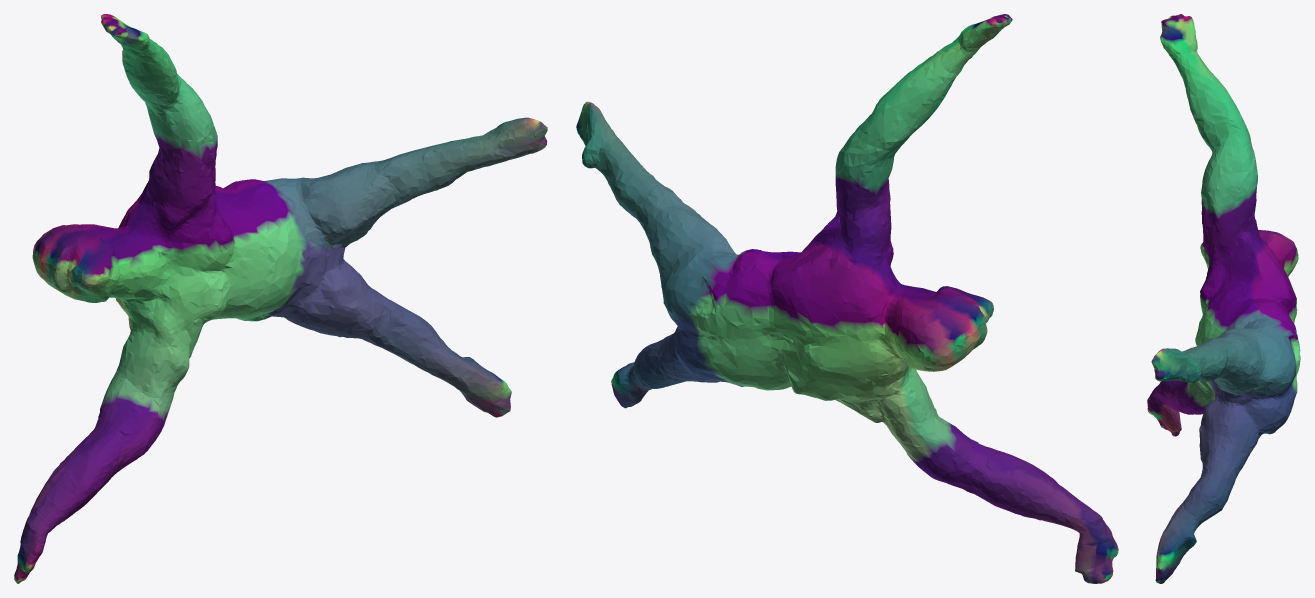
The model's file is gorilla-15.off.obj.
3 renders of one model, left to right at view 1: azimuth 30°, elevation 25°; view 2: azimuth 150°, elevation 25°; view 3: azimuth 270°, elevation 25°, orthographic. The views are drawn at different scales.
Bounding box in the file's own units: 1.4 × 1.36 × 0.4137.
